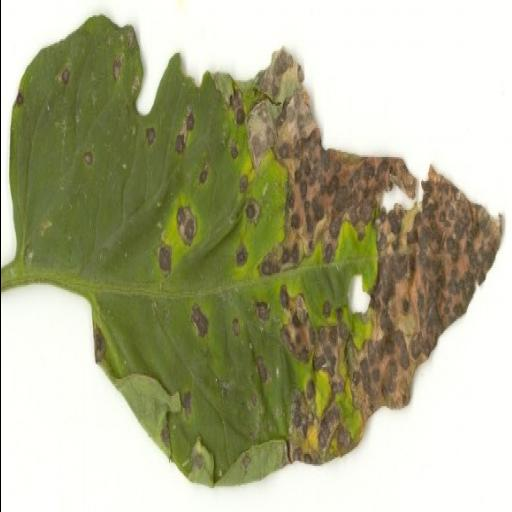disease_tomato: (0, 12, 506, 494)
